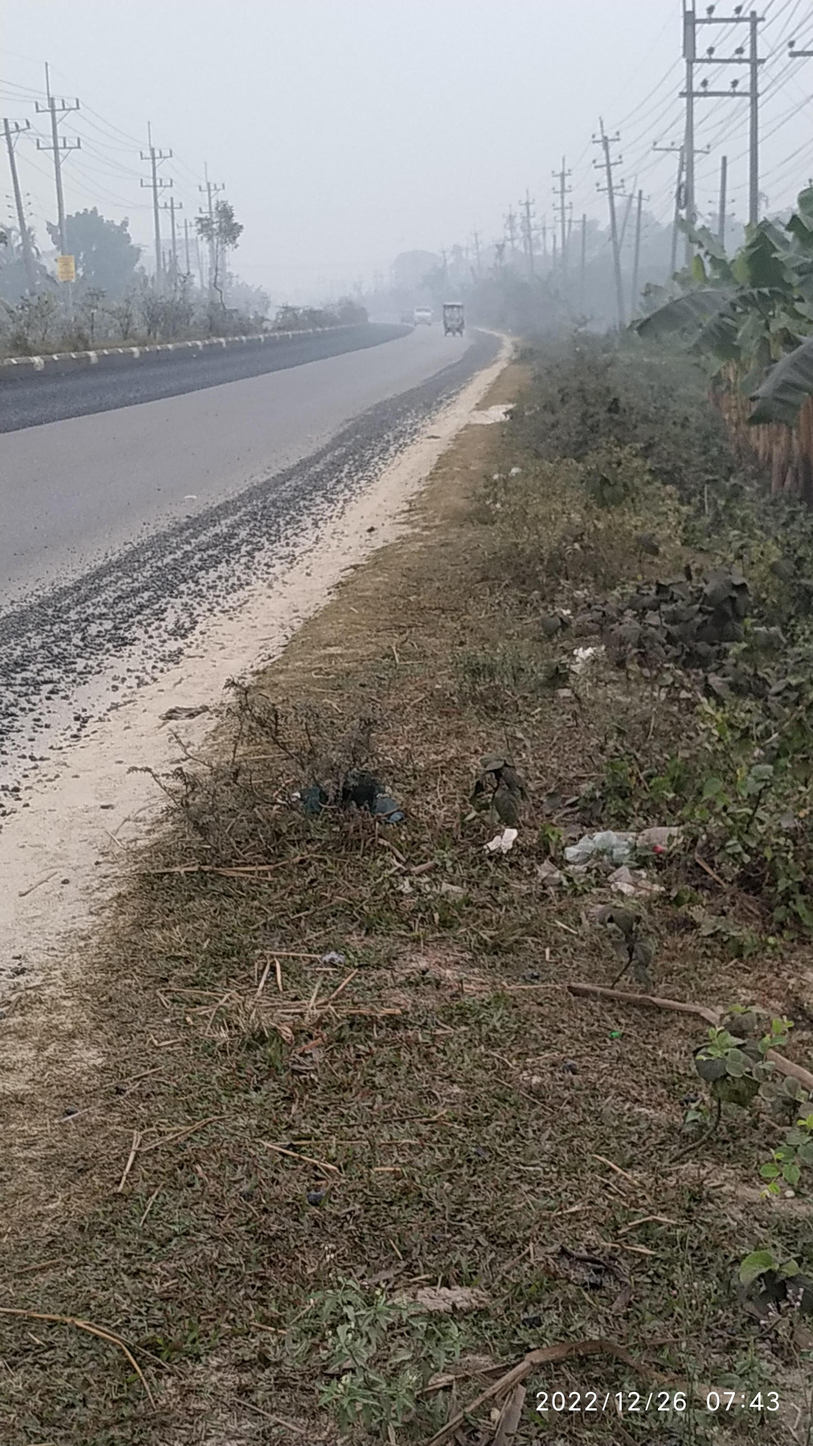Car: (430, 289, 479, 351)
